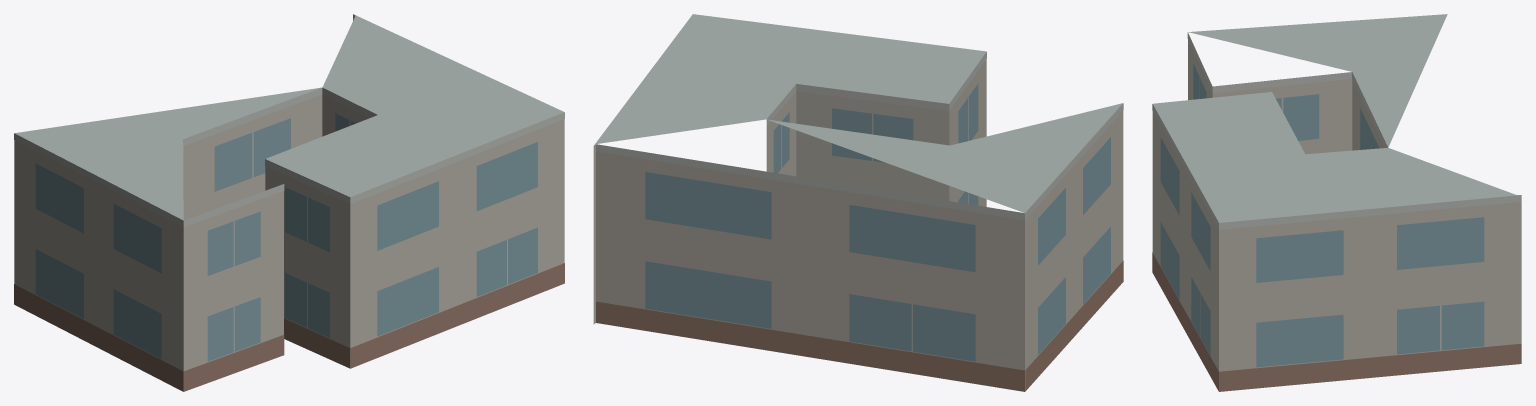
The model's file is survey-upis-32766402.glb.
3 renders of one model, left to right at view 1: azimuth 30°, elevation 25°; view 2: azimuth 150°, elevation 25°; view 3: azimuth 270°, elevation 25°, orthographic. The views are drawn at different scales.
Parts seen in each view (by area): view 1: survey-upis-32766402.tmp; view 2: survey-upis-32766402.tmp; view 3: survey-upis-32766402.tmp.
Boxes of the visible parts, x1,y1,x2,y2 form: survey-upis-32766402.tmp: [14, 14, 564, 391]; survey-upis-32766402.tmp: [593, 14, 1123, 391]; survey-upis-32766402.tmp: [1152, 14, 1521, 391].
Bounding box in the file's own units: 16.2 × 6.1 × 12.08.
